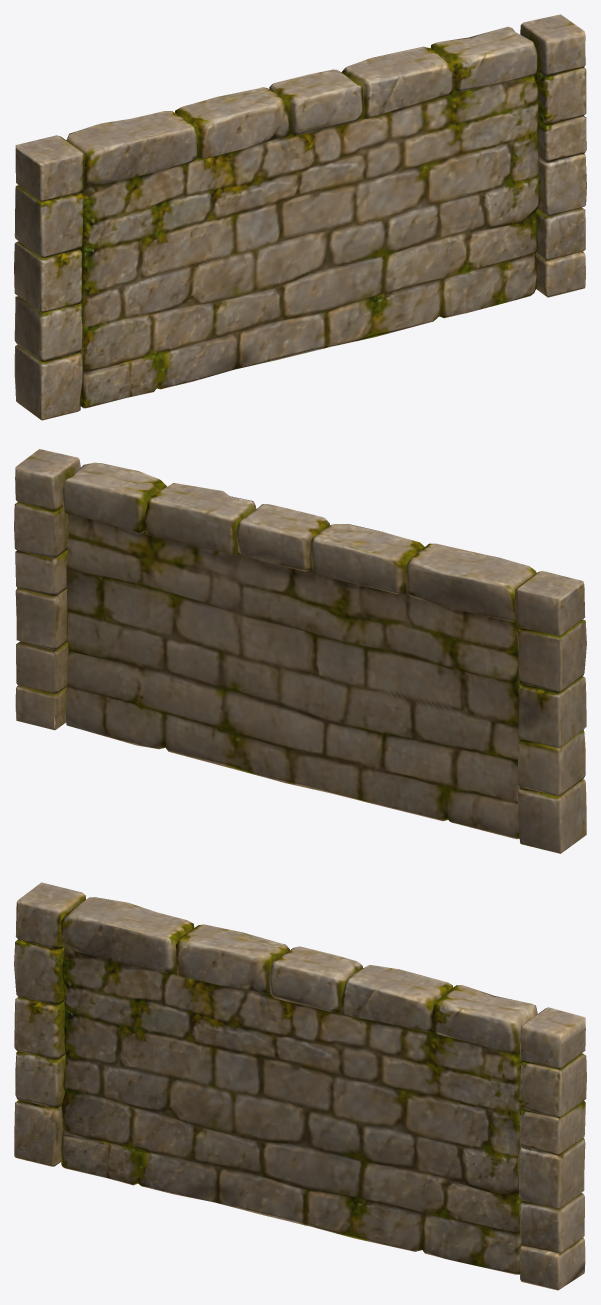
The model's file is Muralha.fbx.
3 views of the same model, one above another, from view 1: azimuth 30°, elevation 25°; view 2: azimuth 150°, elevation 25°; view 3: azimuth 330°, elevation 25° (orthographic).
Visible parts, largest first — view 1: geometry_0; view 2: geometry_0; view 3: geometry_0.
Boxes of the visible parts, left/top/right/bottom form: geometry_0: left=14, top=14, right=586, bottom=420; geometry_0: left=14, top=449, right=586, bottom=853; geometry_0: left=14, top=882, right=586, bottom=1290.
Bounding box in the file's own units: 1323 × 600 × 125.
1 material, 1 textured.
